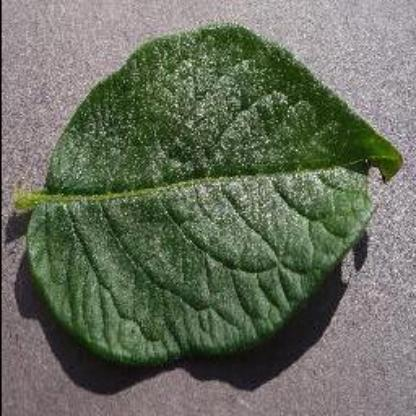Healthy-plant: (9, 28, 404, 378)
